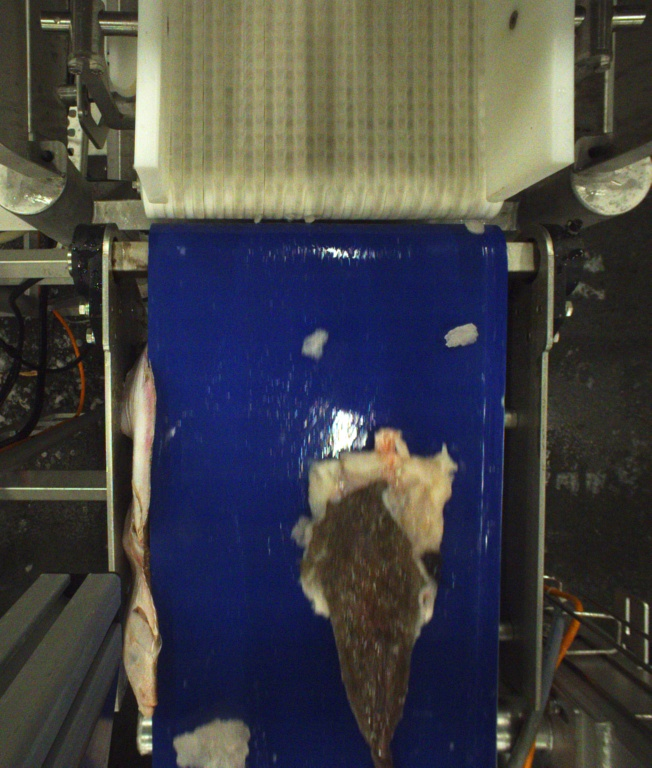ANF: (298, 424, 456, 768)
